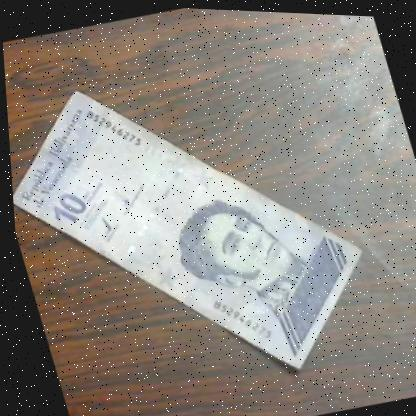vef_front: (2, 32, 394, 416)
